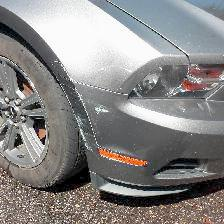bumper_scratch: (52, 59, 109, 161)
